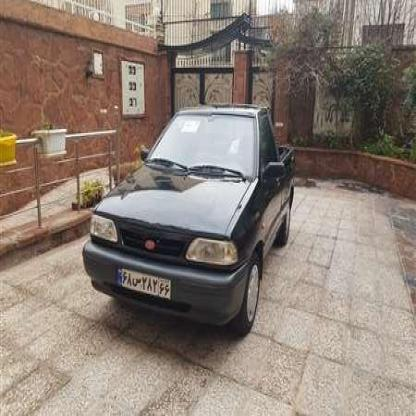Car: (85, 97, 299, 343)
